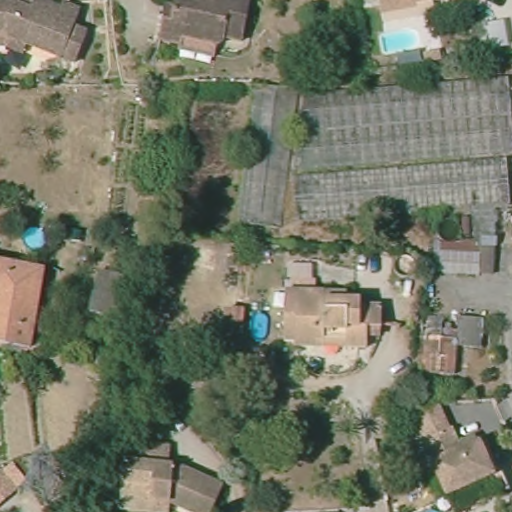pool: (375, 28, 424, 58), (246, 304, 272, 344), (18, 224, 50, 253)
